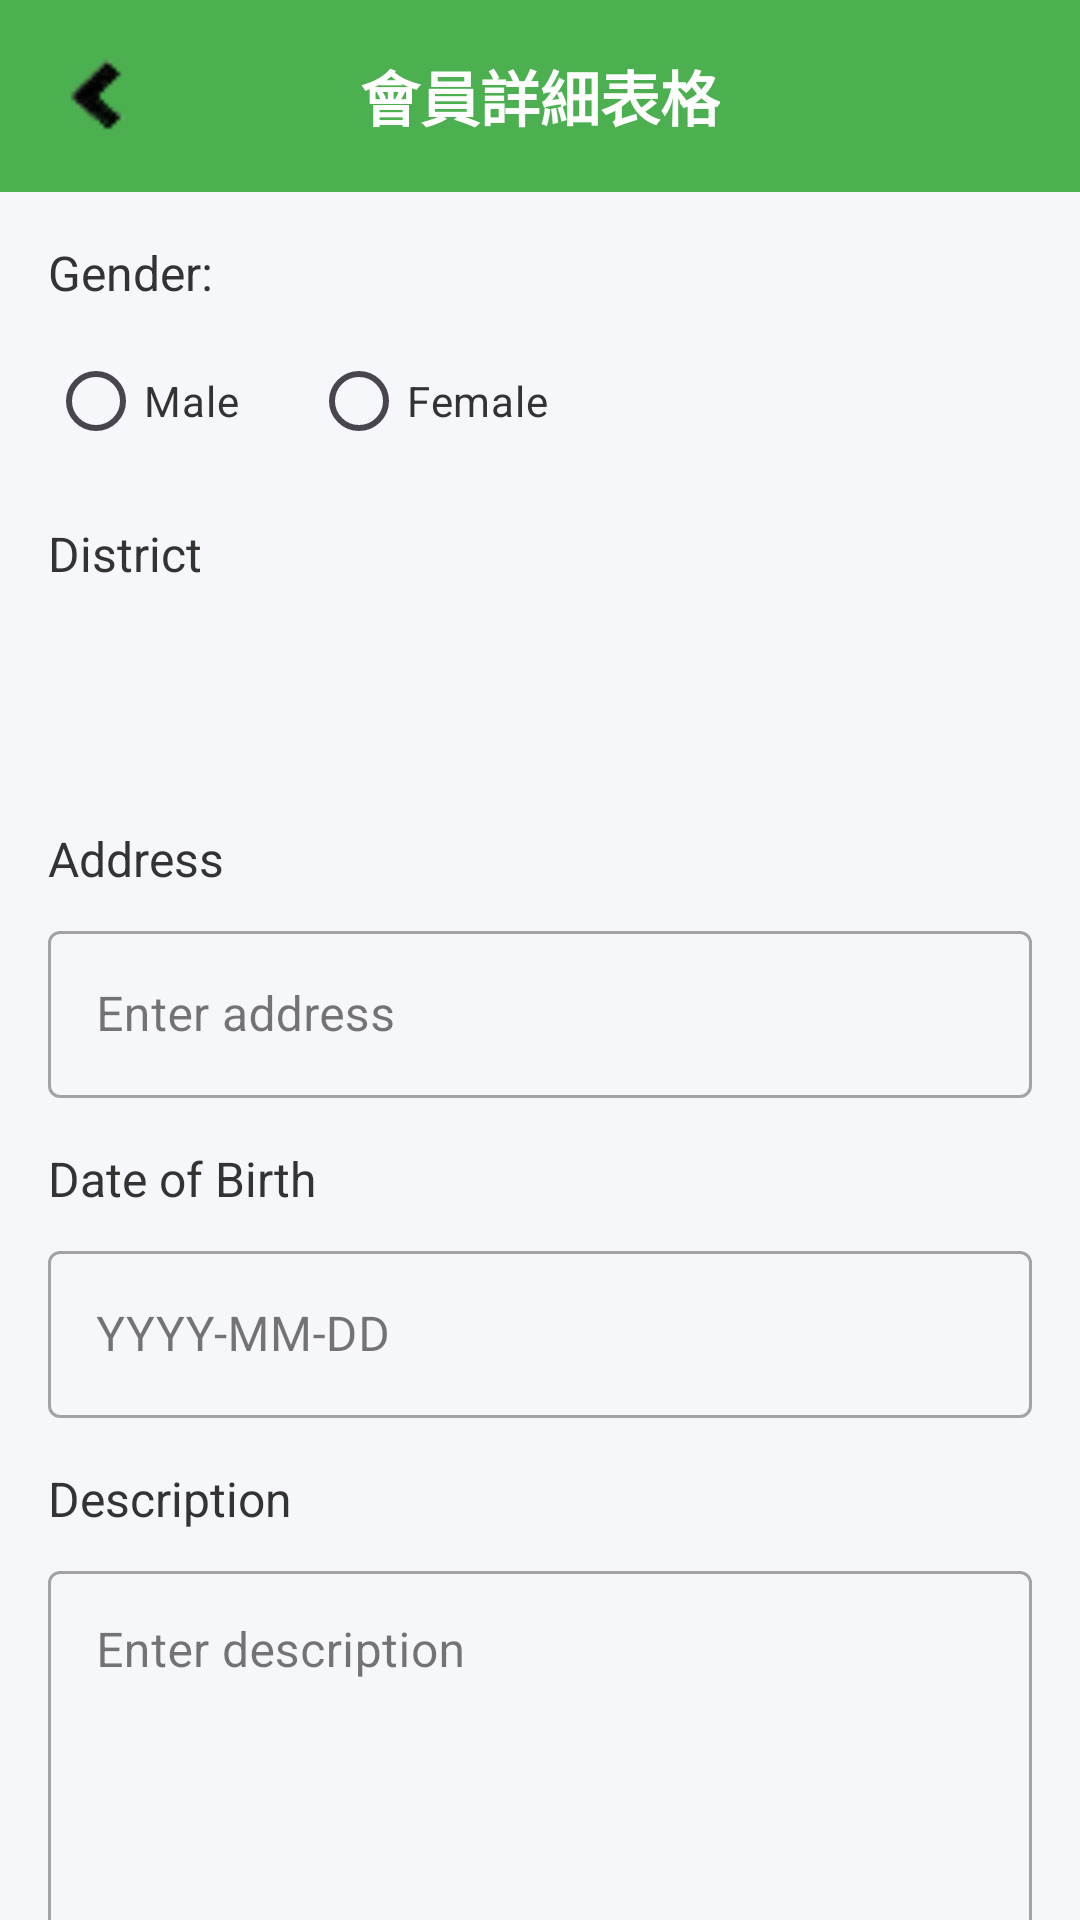

Named icons in this screenshot (1080*1920) and their bounding boxes, [x1=x1, y1=y1, x2=x2, y2=y2]:
exit: [x1=71, y1=60, x2=121, y2=129]
